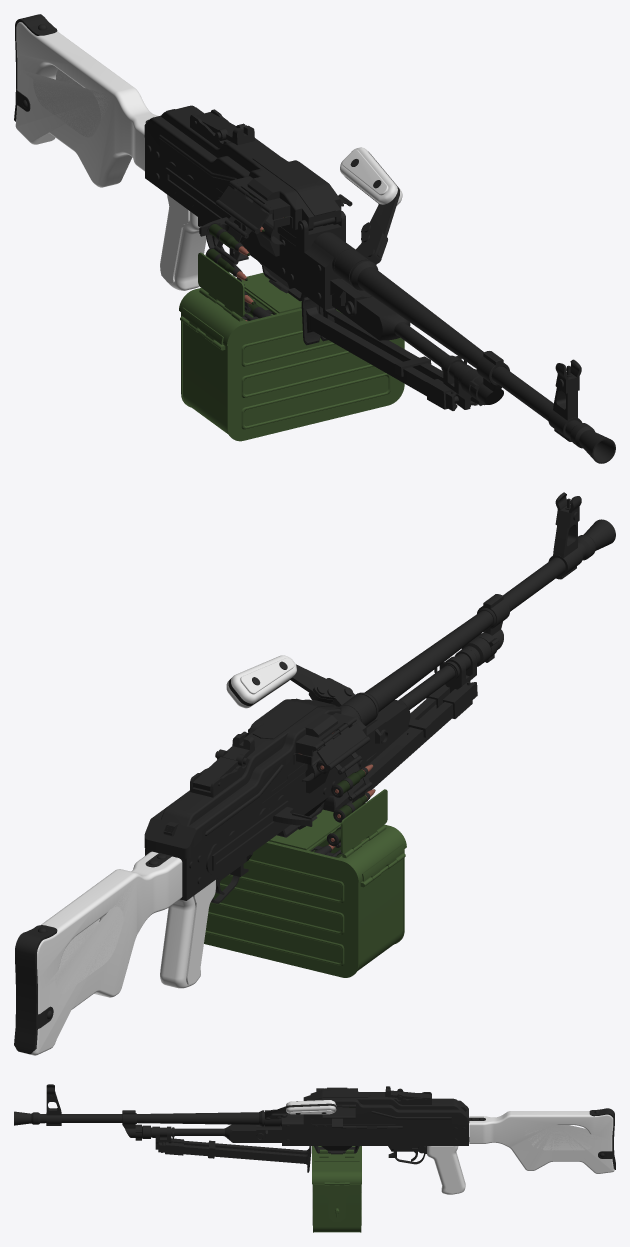
The model's file is PKM.fbx.
The picture shows the model from 3 angles, top to bottom: view 1: azimuth 30°, elevation 25°; view 2: azimuth 150°, elevation 25°; view 3: azimuth 270°, elevation 25°; orthographic projection. The views are drawn at different scales.
Visible parts, largest first — view 1: Cube.004, 立方体.001, Cube.001, Cube, 柱体, Cube.019, 柱体.061, Cube.003, 柱体.001, 立方体.002, Cube.021, Cube.014 (+12 smaller); view 2: Cube.004, 立方体.001, Cube.001, 柱体, Cube, Cube.019, Cube.003, 平面.002, 柱体.061, Cube.014, 柱体.001, 立方体.002 (+9 smaller); view 3: 立方体.001, Cube, Cube.001, 柱体, Cube.004, 柱体.060, Cube.019, Cube.003, 柱体.001, Cube.017, Cube.022, 柱体.061 (+12 smaller).
Boxes of the visible parts, <box> form: Cube.004: <box>181,294,404,441</box>; 立方体.001: <box>15,22,158,187</box>; Cube.001: <box>144,105,341,230</box>; Cube: <box>145,138,345,309</box>; 柱体: <box>313,225,576,433</box>; Cube.019: <box>179,273,338,345</box>; 柱体.061: <box>301,297,457,410</box>; Cube.003: <box>160,194,206,290</box>; 柱体.001: <box>332,294,449,366</box>; 立方体.002: <box>340,147,402,205</box>; Cube.021: <box>198,252,244,316</box>; Cube.014: <box>163,161,247,242</box>; Cube.004: <box>204,838,404,977</box>; 立方体.001: <box>16,851,182,1055</box>; Cube.001: <box>144,698,352,858</box>; 柱体: <box>339,557,565,721</box>; Cube: <box>145,716,366,900</box>; Cube.019: <box>257,809,406,882</box>; Cube.003: <box>160,880,215,988</box>; 平面.002: <box>14,853,171,1054</box>; 柱体.061: <box>323,681,477,811</box>; Cube.014: <box>206,795,290,875</box>; 柱体.001: <box>366,664,456,759</box>; 立方体.002: <box>226,655,296,708</box>; 立方体.001: <box>469,1111,614,1173</box>; Cube: <box>282,1114,468,1150</box>; Cube.001: <box>303,1087,468,1124</box>; 柱体: <box>45,1110,303,1126</box>; Cube.004: <box>312,1184,361,1232</box>; 柱体.060: <box>158,1142,311,1172</box>; Cube.019: <box>312,1146,361,1184</box>; Cube.003: <box>427,1146,465,1194</box>; 柱体.001: <box>171,1124,281,1142</box>; Cube.017: <box>346,1128,397,1143</box>; Cube.022: <box>324,1185,349,1222</box>; 柱体.061: <box>158,1138,311,1167</box>.
Bounding box in the file's own units: 22.69 × 28.49 × 121.
